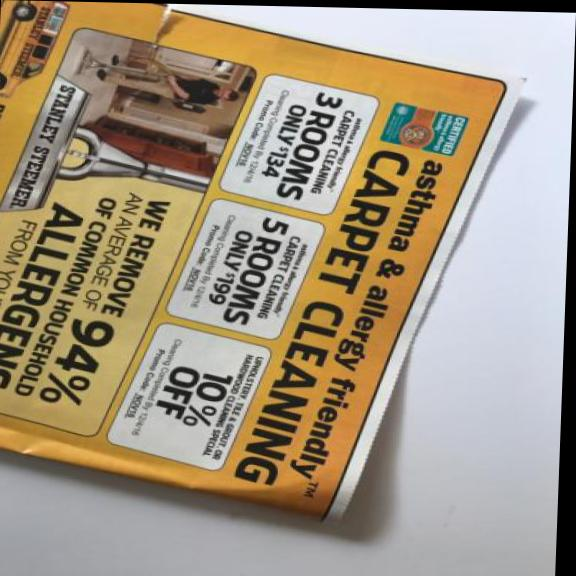Kertas: (0, 12, 538, 529)
